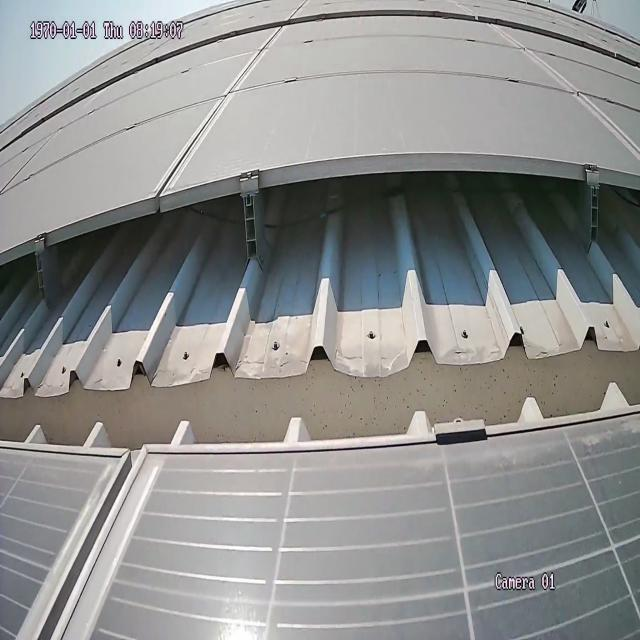interior panel: (10, 475, 156, 640), (155, 27, 290, 185), (491, 27, 640, 158)
outher panel: (0, 148, 639, 461)
